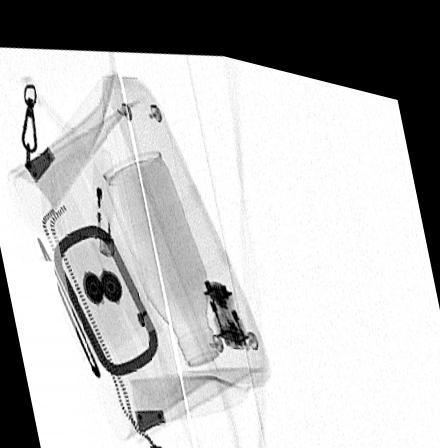Lighter: (92, 150, 115, 251)
